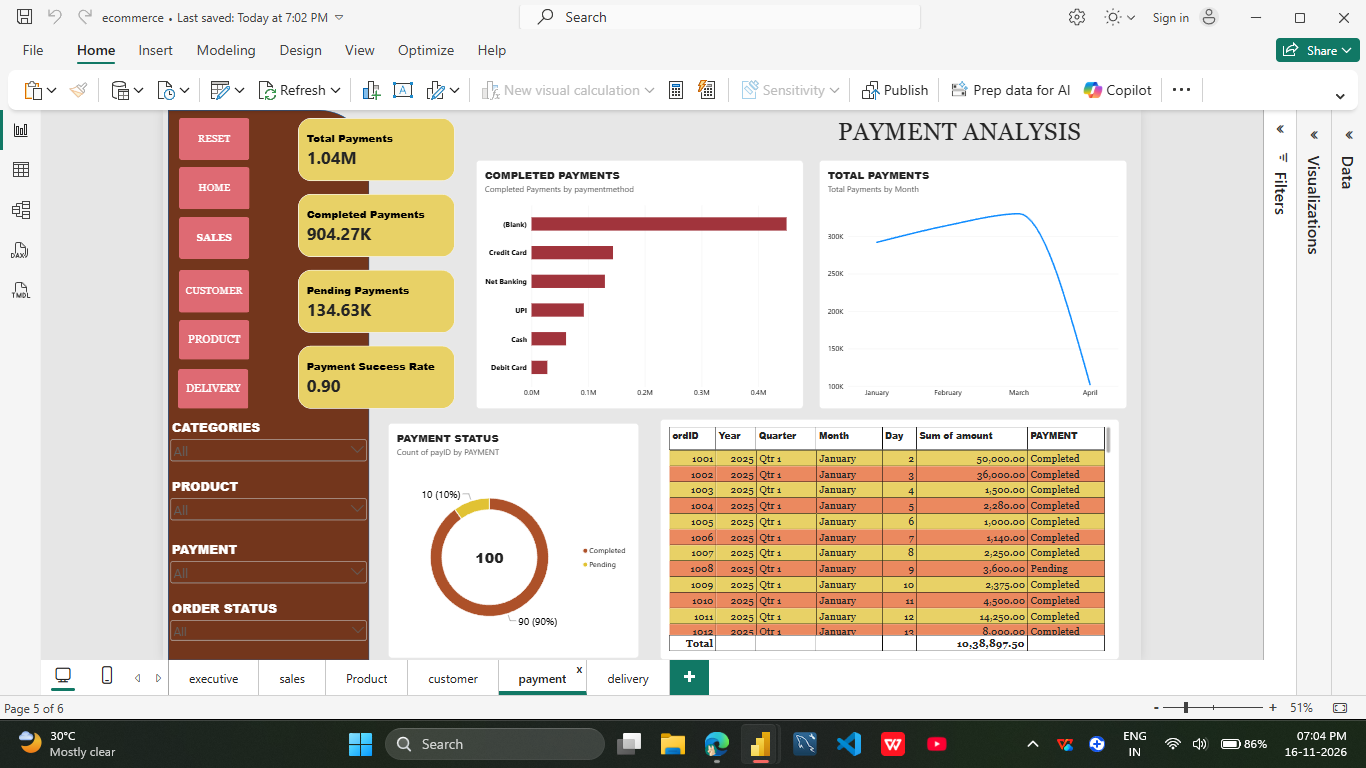

What the dashboard file says about the page in this screenshot:
{"tool":"powerbi","page":{"name":"payment","canvas":[1920,1080],"ordinal":4},"visuals":[{"type":"shape","box":[8.9,0,395.2,1080.6],"z":0},{"type":"cardVisual","fields":{"Data":["ecom payment.Total Payments","ecom payment.Completed Payments","ecom payment.Pending Payments","ecom payment.Payment Success Rate"]},"box":[265.7,15.6,308.1,571.5],"z":1000},{"type":"actionButton","box":[32,412,138.4,78.1],"z":2000},{"type":"slicer","fields":{"Values":["ecom category.catname"]},"box":[8.9,607.3,395.2,100.5],"z":2000},{"type":"slicer","fields":{"Values":["ecom product.pname"]},"box":[8.9,723.3,395.2,100.5],"z":3000},{"type":"slicer","fields":{"Values":["ecom payment.payment_status"]},"box":[8.9,846.1,395.2,87.1],"z":4000},{"type":"slicer","title":"ORDER STATUS","fields":{"Values":["ecom orderss.ordstatus"]},"box":[8.9,962.2,395.2,118.3],"z":5000},{"type":"donutChart","title":"PAYMENT STATUS","fields":{"Category":["ecom payment.PAYMENT"],"Y":["CountNonNull(ecom payment.payID)"]},"box":[442,614,493.4,462.1],"z":6000},{"type":"barChart","title":"COMPLETED PAYMENTS","fields":{"Category":["ecom orderss.paymentmethod"],"Y":["ecom payment.Completed Payments"]},"box":[614,98.2,643,488.9],"z":7000},{"type":"lineChart","title":"TOTAL PAYMENTS","fields":{"Category":["ecom payment.paydate.Variation.Date Hierarchy.Month","ecom payment.paydate.Variation.Date Hierarchy.Day"],"Y":["ecom payment.Total Payments"]},"box":[1288.2,98.2,605,488.9],"z":8000},{"type":"tableEx","fields":{"Values":["ecom payment.ordID","ecom payment.paydate.Variation.Date Hierarchy.Year","ecom payment.paydate.Variation.Date Hierarchy.Quarter","ecom payment.paydate.Variation.Date Hierarchy.Month","ecom payment.paydate.Variation.Date Hierarchy.Day","Sum(ecom payment.amount)","ecom payment.PAYMENT"]},"box":[975.6,607.3,902,473.3],"z":9000},{"type":"actionButton","box":[32,112,138.7,83.2],"z":10000},{"type":"actionButton","box":[32,314,138,84],"z":11000},{"type":"actionButton","box":[31.3,209.3,138.4,82.6],"z":12000},{"type":"actionButton","box":[31.3,15.6,138.4,82.6],"z":12001},{"type":"actionButton","box":[30,508,138.4,78.1],"z":12002},{"type":"textbox","box":[1326.1,15.6,551.4,82.6],"z":12003}]}

Visuals, with their boxes on the page's 1920x1080 design canvas (x1, y1, x2, y2). These are canvas units, not pixel positions in the 1366x768 screenshot, which may show the page scaled, cropped or inside an application window:
shape: box(9, 0, 404, 1081)
cardVisual - ecom payment.Total Payments x ecom payment.Completed Payments: box(266, 16, 574, 587)
actionButton: box(32, 412, 170, 490)
slicer - ecom category.catname: box(9, 607, 404, 708)
slicer - ecom product.pname: box(9, 723, 404, 824)
slicer - ecom payment.payment_status: box(9, 846, 404, 933)
"ORDER STATUS" slicer: box(9, 962, 404, 1080)
"PAYMENT STATUS" donutChart: box(442, 614, 935, 1076)
"COMPLETED PAYMENTS" barChart: box(614, 98, 1257, 587)
"TOTAL PAYMENTS" lineChart: box(1288, 98, 1893, 587)
tableEx - ecom payment.ordID x ecom payment.paydate.Variation.Date Hierarchy.Year: box(976, 607, 1878, 1081)
actionButton: box(32, 112, 171, 195)
actionButton: box(32, 314, 170, 398)
actionButton: box(31, 209, 170, 292)
actionButton: box(31, 16, 170, 98)
actionButton: box(30, 508, 168, 586)
textbox: box(1326, 16, 1878, 98)
